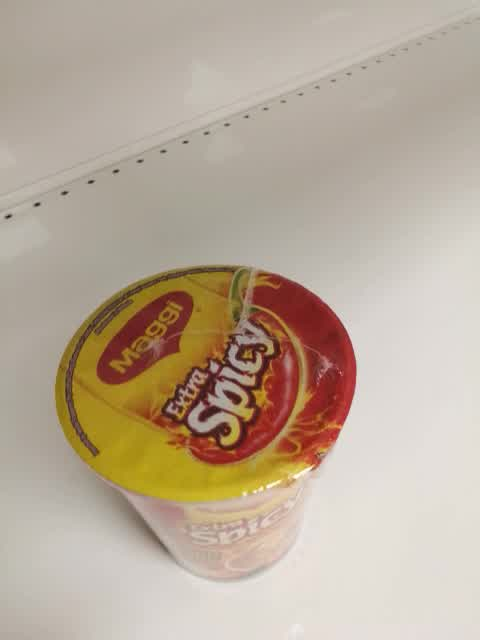maggi: (53, 263, 358, 584)
